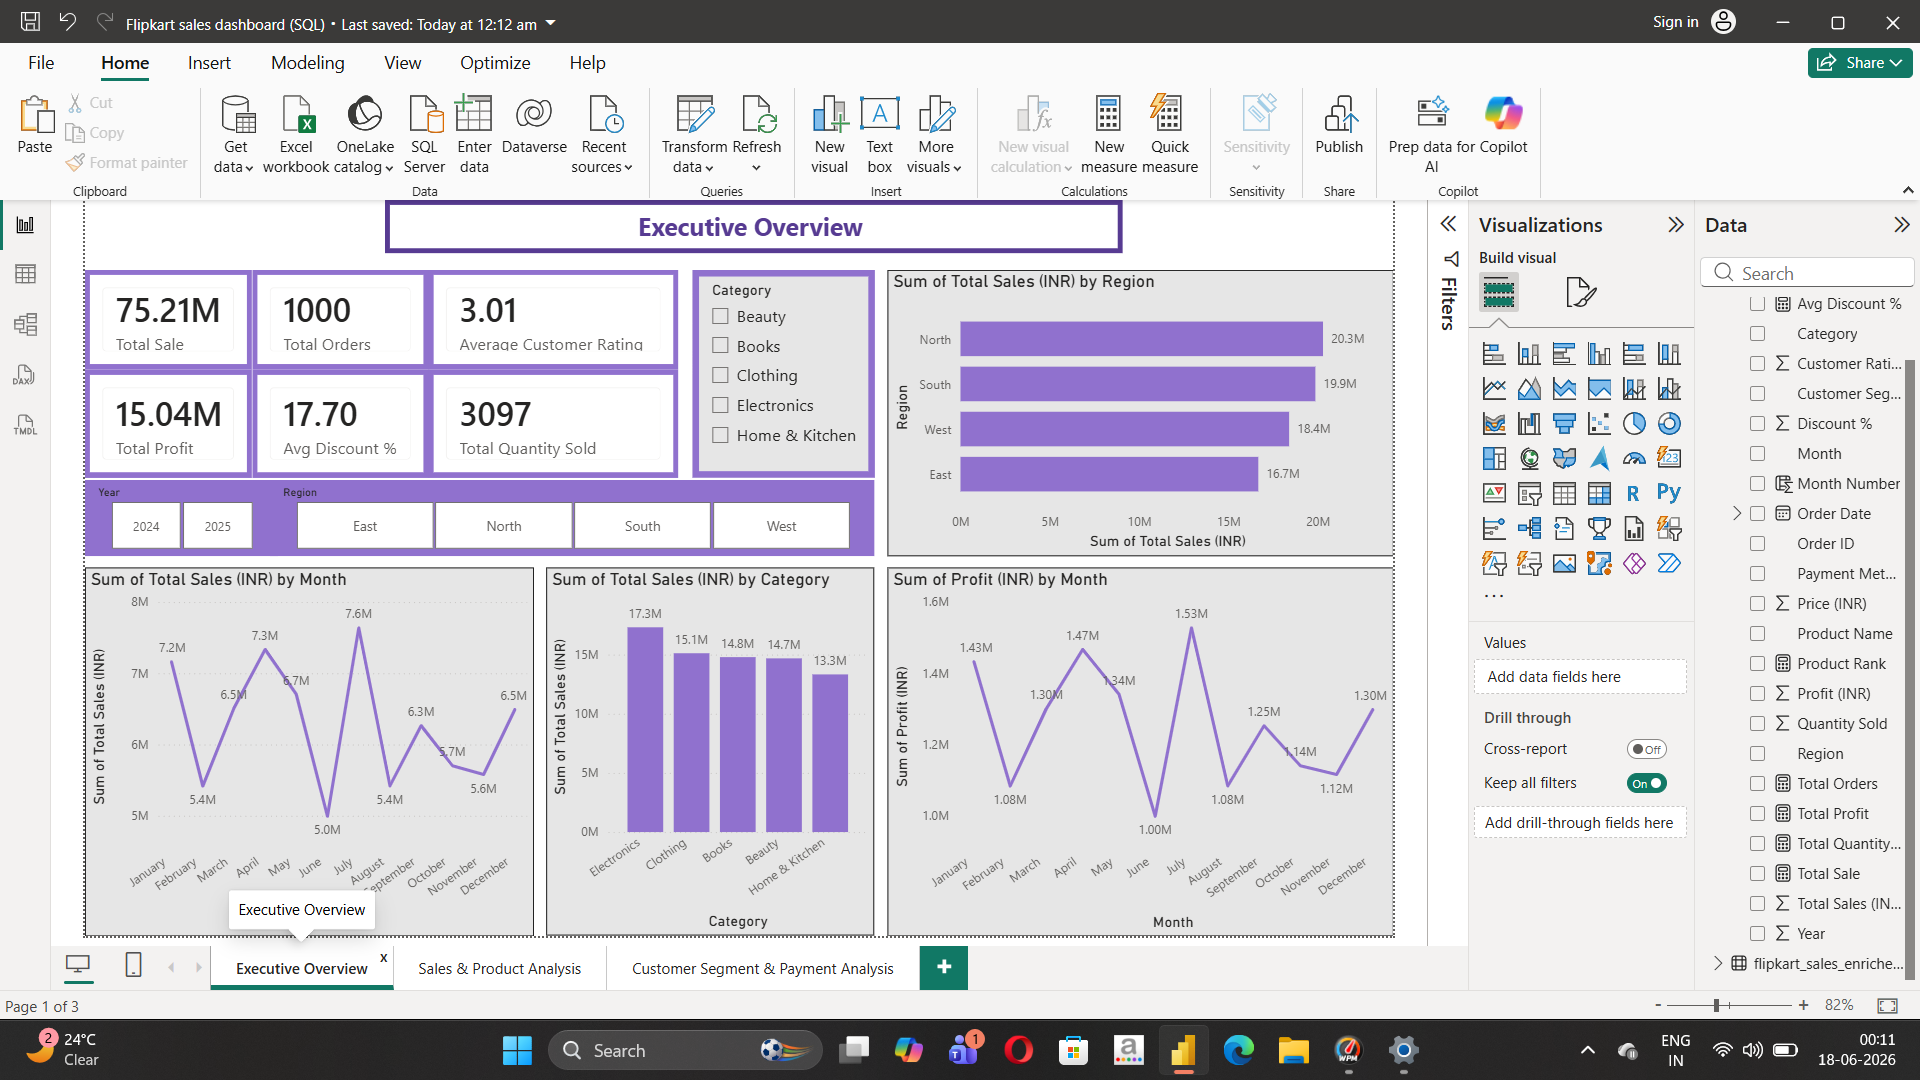

Layout of this report page (visuals, bound fields, positions):
{"tool":"powerbi","page":{"name":"Executive Overview","canvas":[1280,720],"ordinal":0},"visuals":[{"type":"cardVisual","fields":{"Data":["flipkart_sales_enriched - Copy.Total sale"]},"box":[0,68.6,163.3,97.4],"z":0},{"type":"cardVisual","fields":{"Data":["flipkart_sales_enriched - Copy.Total Orders"]},"box":[163.3,68.6,172.9,97.4],"z":1000},{"type":"cardVisual","fields":{"Data":["flipkart_sales_enriched - Copy.Total profit"]},"box":[0,166,163.3,105.7],"z":2000},{"type":"cardVisual","fields":{"Data":["flipkart_sales_enriched - Copy.Avg Discount %"]},"box":[163.3,166,172.9,105.7],"z":3000},{"type":"cardVisual","fields":{"Data":["flipkart_sales_enriched - Copy.Total Quantity Sold"]},"box":[336.2,166,244.3,105.7],"z":4000},{"type":"cardVisual","fields":{"Data":["flipkart_sales_enriched - Copy.Average Customer Rating"]},"box":[336.2,68.6,244.3,97.4],"z":5000},{"type":"lineChart","fields":{"Y":["Sum(flipkart_sales_enriched - Copy.Total Sales (INR))"],"Category":["flipkart_sales_enriched - Copy.Month"]},"box":[0,359.5,439.1,360.9],"z":6000},{"type":"barChart","fields":{"Y":["Sum(flipkart_sales_enriched - Copy.Total Sales (INR))"],"Category":["flipkart_sales_enriched - Copy.Region"]},"box":[784.9,68.6,495.4,279.9],"z":7000},{"type":"lineChart","fields":{"Y":["Sum(flipkart_sales_enriched - Copy.Profit (INR))"],"Category":["flipkart_sales_enriched - Copy.Month"]},"box":[784.9,359.5,495.4,360.9],"z":8000},{"type":"slicer","fields":{"Values":["flipkart_sales_enriched - Copy.Region"]},"box":[181.1,274.4,591.4,74.1],"z":9000},{"type":"slicer","fields":{"Values":["flipkart_sales_enriched - Copy.Year"]},"box":[0,274.4,188,74.1],"z":10000},{"type":"slicer","fields":{"Values":["flipkart_sales_enriched - Copy.Category"]},"box":[594.2,68.6,178.4,203.1],"z":11000},{"type":"columnChart","fields":{"Category":["flipkart_sales_enriched - Copy.Category"],"Y":["Sum(flipkart_sales_enriched - Copy.Total Sales (INR))"]},"box":[451,360,321,360],"z":12000},{"type":"textbox","box":[293.7,0,721.8,52.1],"z":13000}]}

Visuals, with their boxes on the page's 1280x720 design canvas (x1, y1, x2, y2). These are canvas units, not pixel positions in the 1920x1080 screenshot, which may show the page scaled, cropped or inside an application window:
cardVisual - flipkart_sales_enriched - Copy.Total sale: l=0, t=69, r=163, b=166
cardVisual - flipkart_sales_enriched - Copy.Total Orders: l=163, t=69, r=336, b=166
cardVisual - flipkart_sales_enriched - Copy.Total profit: l=0, t=166, r=163, b=272
cardVisual - flipkart_sales_enriched - Copy.Avg Discount %: l=163, t=166, r=336, b=272
cardVisual - flipkart_sales_enriched - Copy.Total Quantity Sold: l=336, t=166, r=580, b=272
cardVisual - flipkart_sales_enriched - Copy.Average Customer Rating: l=336, t=69, r=580, b=166
lineChart - Sum(flipkart_sales_enriched - Copy.Total Sales (INR)) x flipkart_sales_enriched - Copy.Month: l=0, t=360, r=439, b=720
barChart - Sum(flipkart_sales_enriched - Copy.Total Sales (INR)) x flipkart_sales_enriched - Copy.Region: l=785, t=69, r=1280, b=348
lineChart - Sum(flipkart_sales_enriched - Copy.Profit (INR)) x flipkart_sales_enriched - Copy.Month: l=785, t=360, r=1280, b=720
slicer - flipkart_sales_enriched - Copy.Region: l=181, t=274, r=772, b=348
slicer - flipkart_sales_enriched - Copy.Year: l=0, t=274, r=188, b=348
slicer - flipkart_sales_enriched - Copy.Category: l=594, t=69, r=773, b=272
columnChart - flipkart_sales_enriched - Copy.Category x Sum(flipkart_sales_enriched - Copy.Total Sales (INR)): l=451, t=360, r=772, b=720
textbox: l=294, t=0, r=1016, b=52
